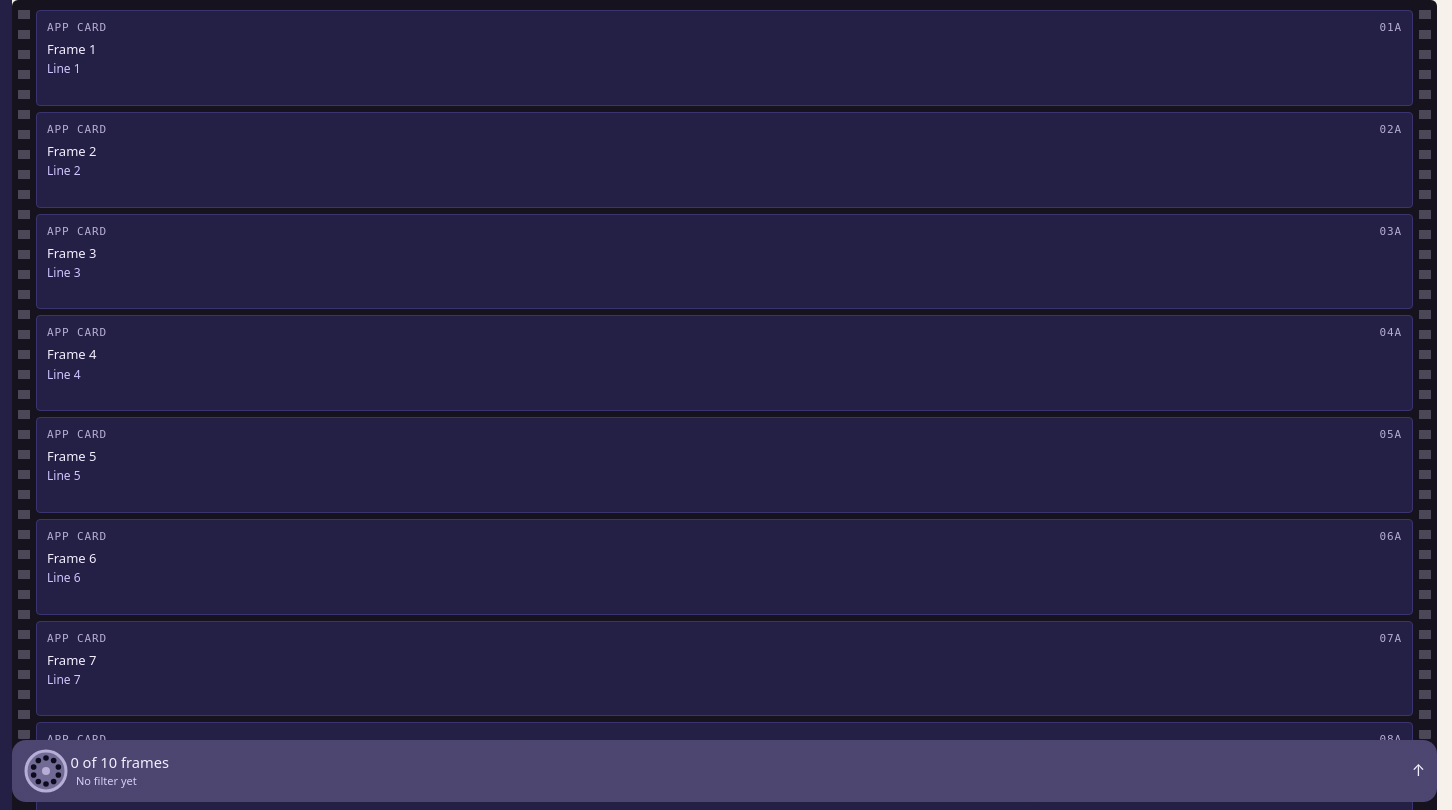
Test: film strip, filters and reel › ticking a frame marks it pressed and updates the tray count
Click the button "app card 01A Frame 1 Line 1": (77,28) [36,10,1413,106]
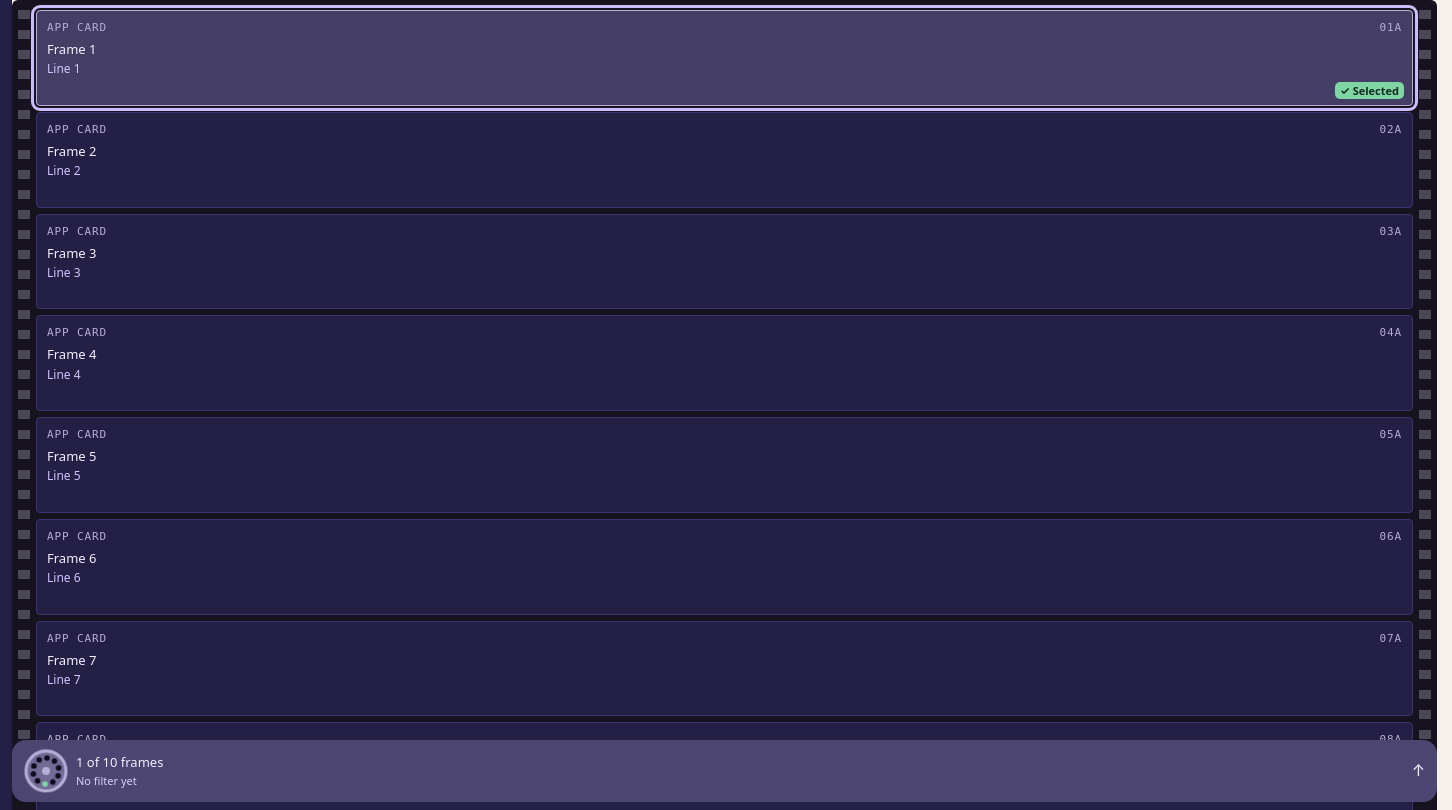
Expected: the button with aria-label "Review 1 frame" is shown, [12,740,1437,802]
